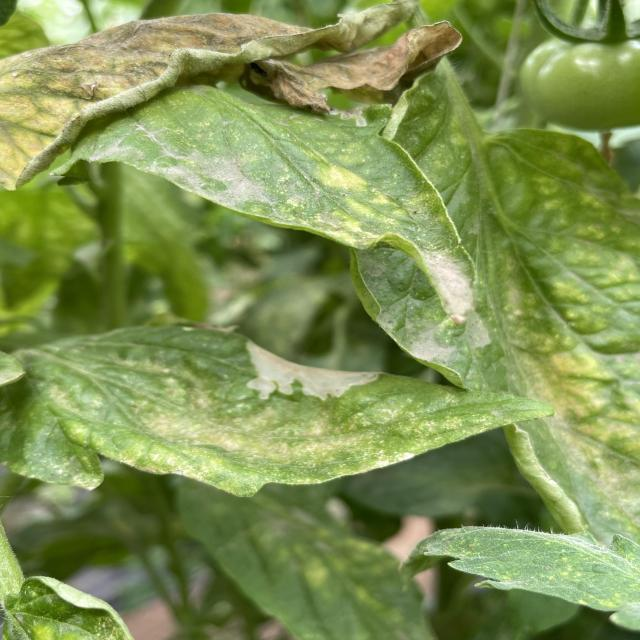Tuta absoluta: (234, 340, 379, 425)
